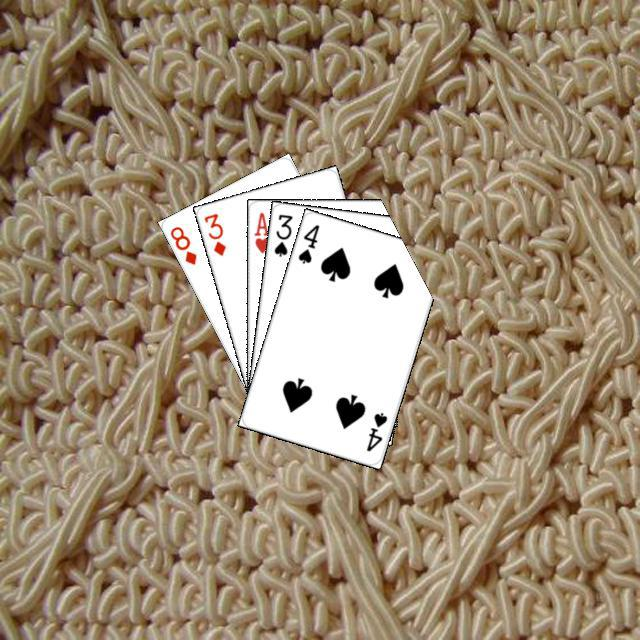3d: (199, 208, 228, 258)
3s: (269, 209, 294, 258)
4s: (361, 407, 389, 453), (293, 220, 321, 265)
8d: (165, 221, 199, 267)
Ah: (249, 207, 271, 255)
